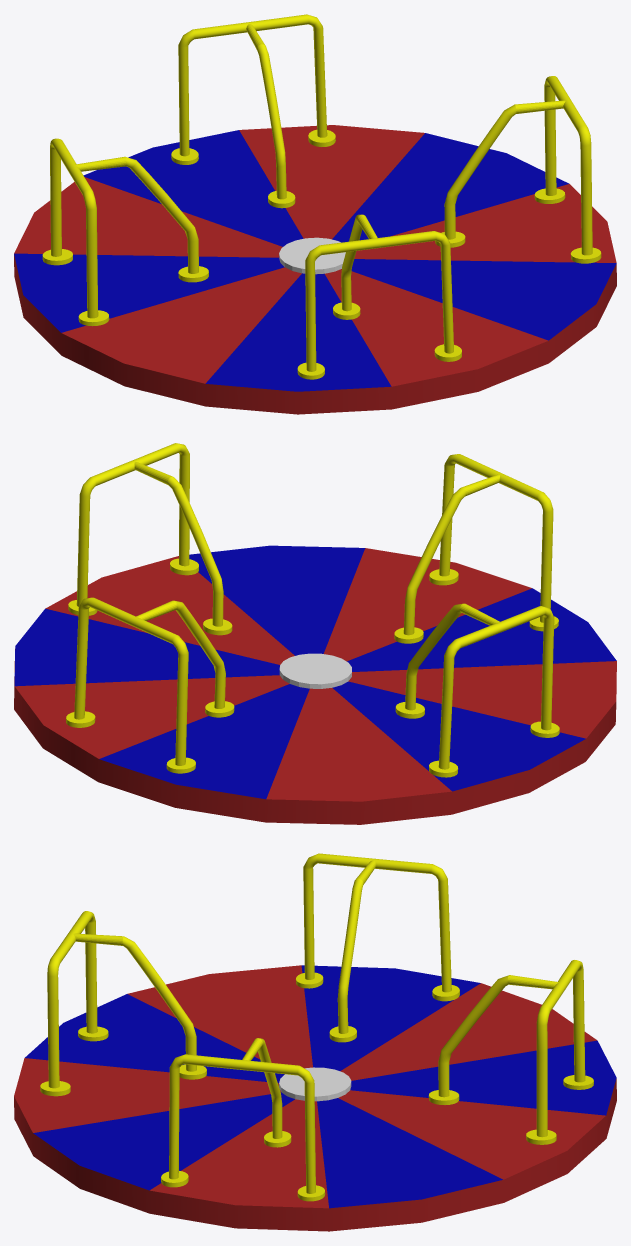
The model's file is MerryGoRound.fbx.
The picture shows the model from 3 angles, top to bottom: view 1: azimuth 30°, elevation 25°; view 2: azimuth 150°, elevation 25°; view 3: azimuth 270°, elevation 25°; orthographic projection.
Visible parts, largest first — view 1: polySurface35; view 2: polySurface35; view 3: polySurface35.
Boxes of the visible parts, bbox=[...] form: polySurface35: bbox=[14, 14, 616, 414]; polySurface35: bbox=[14, 443, 616, 824]; polySurface35: bbox=[14, 853, 616, 1231].
Bounding box in the file's own units: 17.8 × 6.61 × 17.8.
